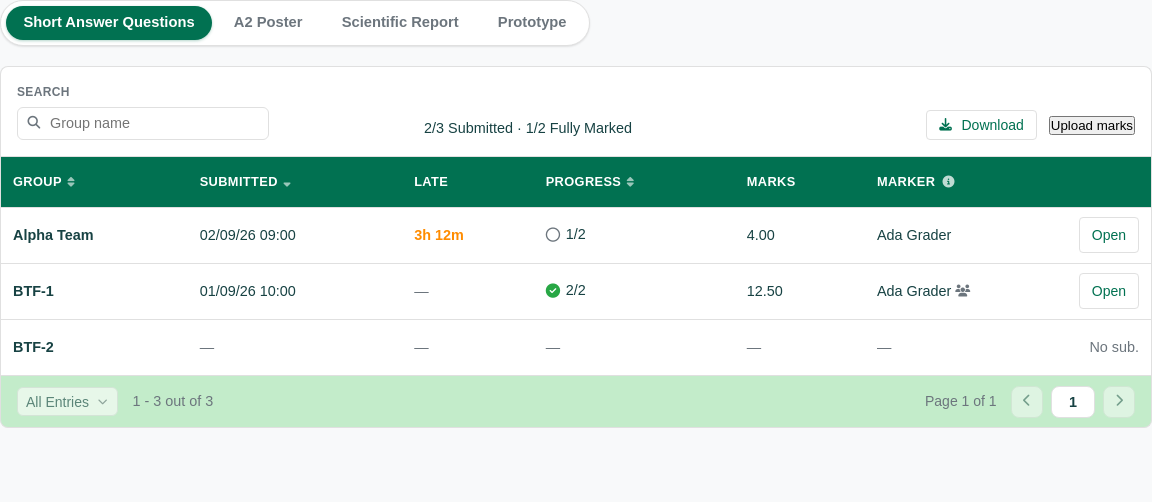
Test case: exports and uploads › an applied upload of {"overwritten":1,"created":0} reads "Marks applied. Overwrote existing records for 1 group."
Click the button with class "bulk-stub" at (1092, 125), box [1049,116,1135,135]
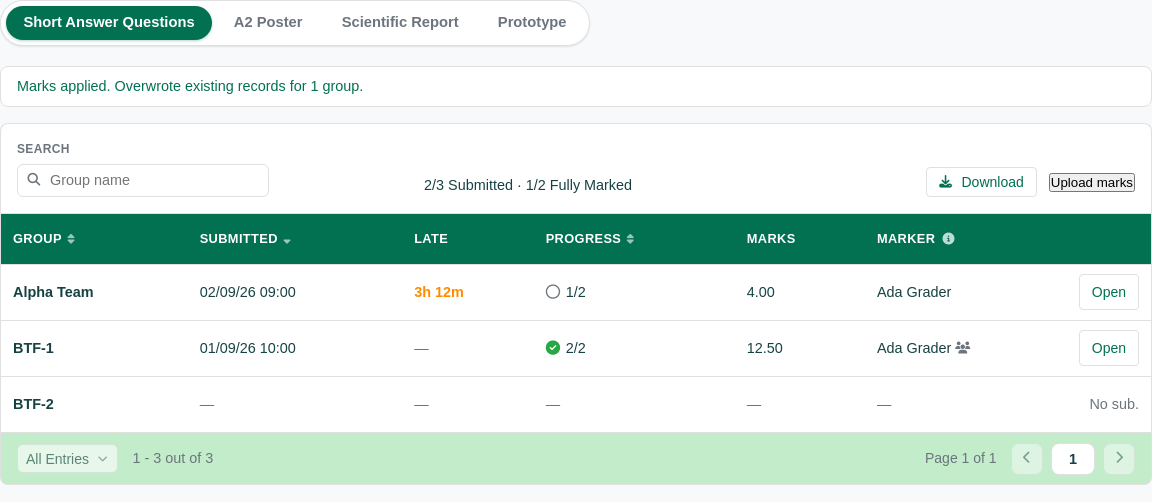
Now the text with class "component-table__banner--ok" reads "Marks applied. Overwrote existing records for 1 group.", box [17,78,363,94]
